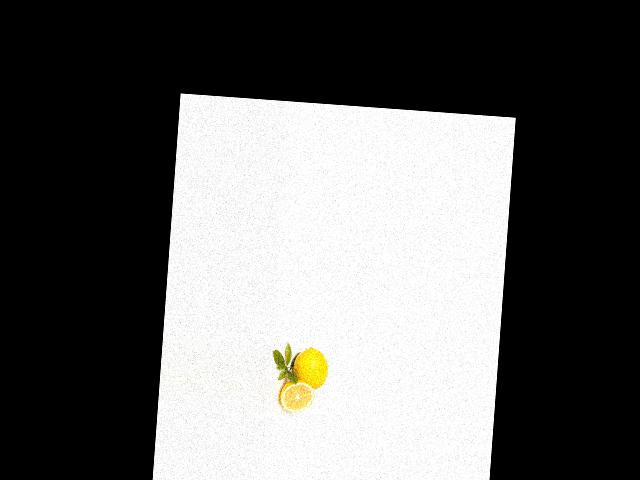lemon: (293, 342, 331, 390)
